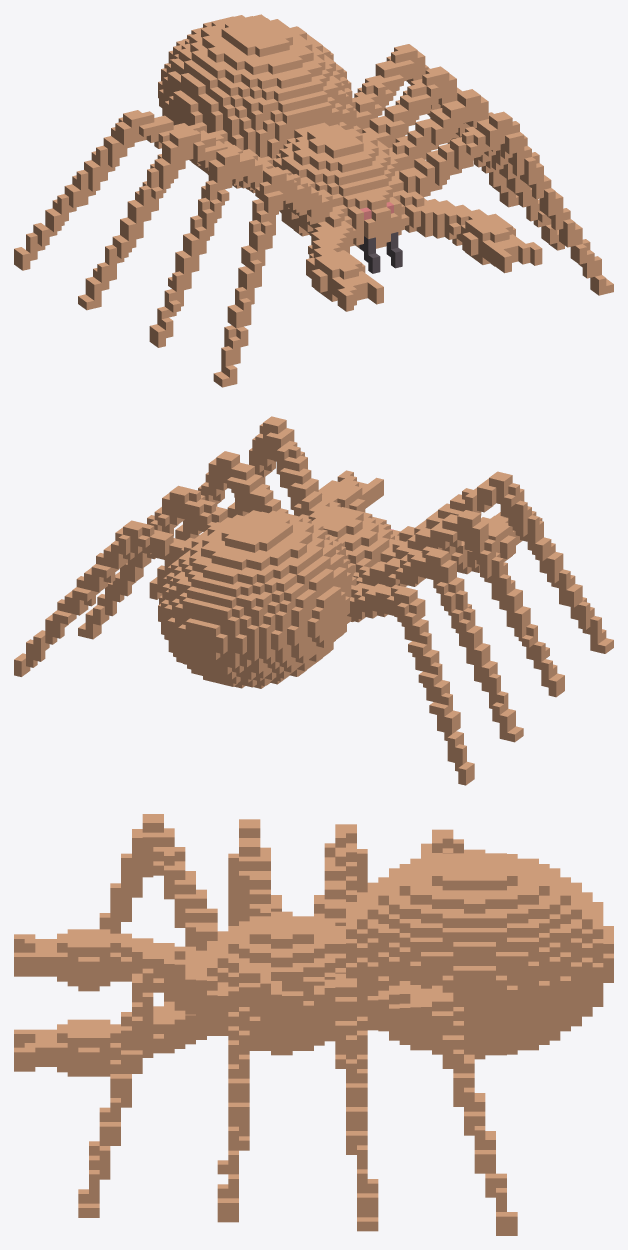
File: crab.glb
The picture shows the model from 3 angles, top to bottom: view 1: azimuth 30°, elevation 25°; view 2: azimuth 150°, elevation 25°; view 3: azimuth 270°, elevation 25°; orthographic projection. The views are drawn at different scales.
Visible parts, largest first — view 1: item; view 2: item; view 3: item.
Boxes of the visible parts, x1,y1,x2,y2 form: item: (14, 14, 613, 387); item: (14, 416, 613, 785); item: (14, 814, 613, 1235).
Size of the model in its own units: 60 by 24 by 56.
